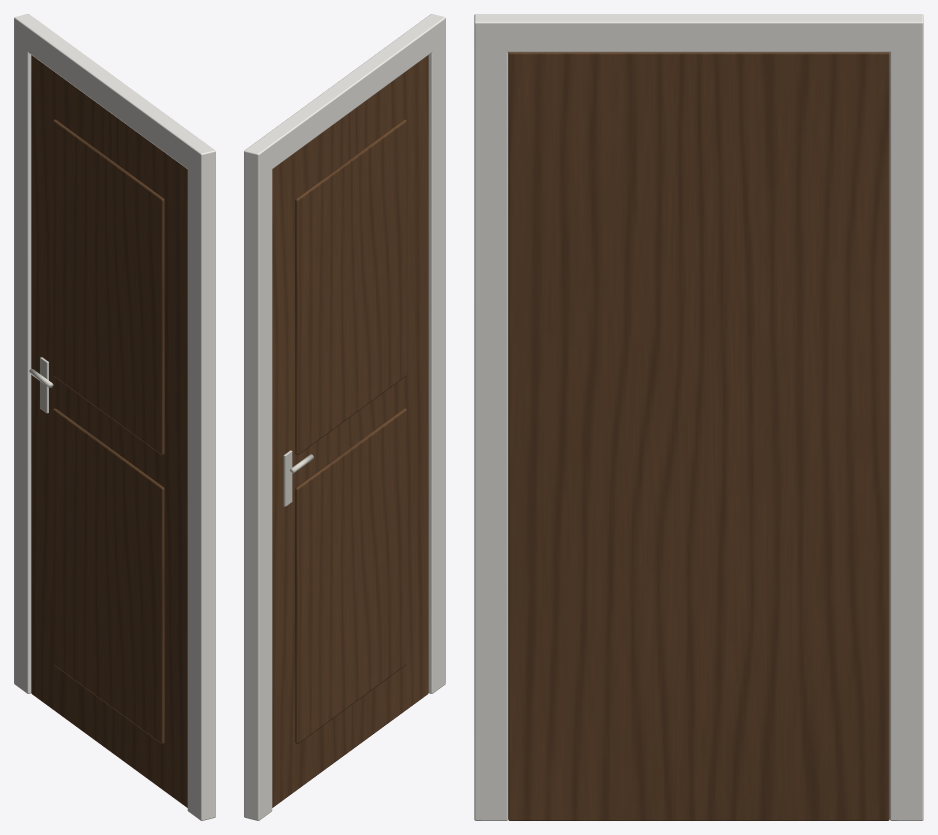
File: mueble.puerta.fbx
3 views of the same model, side by side, from view 1: azimuth 30°, elevation 25°; view 2: azimuth 150°, elevation 25°; view 3: azimuth 270°, elevation 25° (orthographic). The views are drawn at different scales.
Parts seen in each view (by area): view 1: Hoja, Tablero.001, Tablero, Marco lado.001, Marco lado, Marco arriba, Roseta; view 2: Hoja, Tablero.001, Tablero, Marco lado, Marco lado.001, Marco arriba, Roseta; view 3: Hoja, Marco lado.001, Marco lado, Marco arriba.
Boxes of the visible parts, bbox=[...] form: Hoja: bbox=[31, 55, 187, 807]; Tablero.001: bbox=[53, 408, 164, 743]; Tablero: bbox=[53, 119, 164, 454]; Marco lado.001: bbox=[187, 160, 215, 820]; Marco lado: bbox=[14, 31, 31, 693]; Marco arriba: bbox=[14, 14, 215, 178]; Roseta: bbox=[40, 357, 48, 413]; Hoja: bbox=[272, 55, 428, 807]; Tablero.001: bbox=[295, 408, 406, 743]; Tablero: bbox=[295, 119, 406, 454]; Marco lado: bbox=[244, 165, 272, 820]; Marco lado.001: bbox=[428, 38, 445, 693]; Marco arriba: bbox=[244, 14, 445, 178]; Roseta: bbox=[283, 450, 292, 506]; Hoja: bbox=[508, 52, 889, 820]; Marco lado.001: bbox=[474, 39, 508, 820]; Marco lado: bbox=[889, 39, 923, 820]; Marco arriba: bbox=[474, 14, 923, 52].
Size of the model in its own units: 0.0826 by 2.08 by 1.06.
3 materials, 1 textured.
